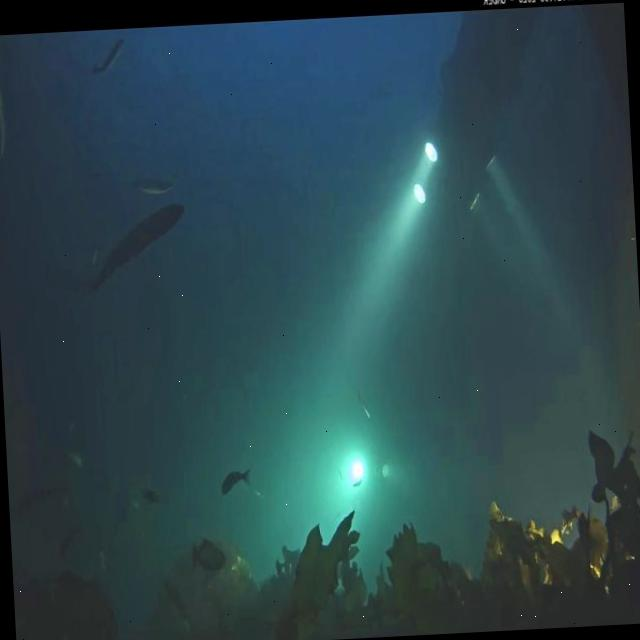fish: (80, 198, 192, 296), (162, 576, 188, 633), (89, 38, 124, 78), (189, 543, 229, 575), (218, 463, 254, 494), (0, 83, 10, 164), (356, 392, 372, 422), (128, 185, 174, 195), (95, 542, 108, 575), (65, 450, 84, 472), (140, 488, 158, 508), (334, 468, 344, 484), (351, 481, 362, 492)
